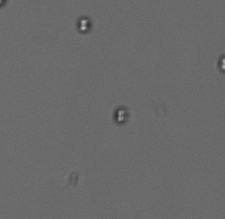Living Cell: (112, 105, 130, 125), (76, 17, 91, 33)
